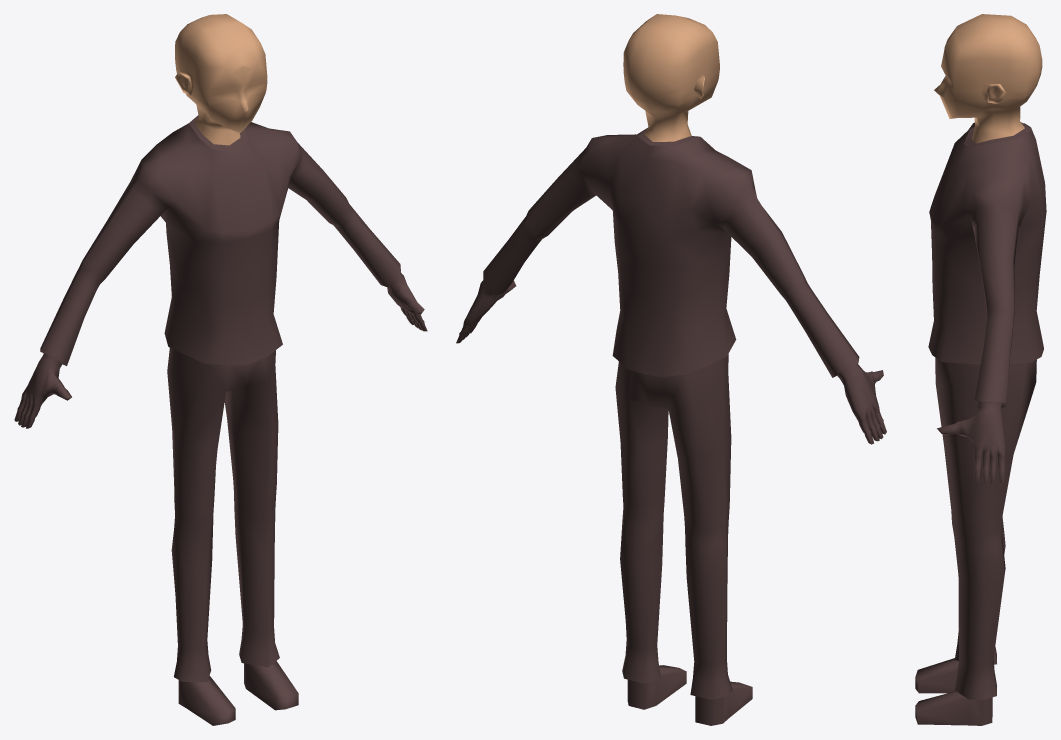
The model's file is player_1.fbx.
The picture shows the model from 3 angles, left to right: view 1: azimuth 30°, elevation 25°; view 2: azimuth 150°, elevation 25°; view 3: azimuth 270°, elevation 25°; orthographic projection. The views are drawn at different scales.
Parts seen in each view (by area): view 1: Player_1; view 2: Player_1; view 3: Player_1.
Part boxes in pixels (bbox=[...]): Player_1: bbox=[14, 14, 427, 725]; Player_1: bbox=[456, 14, 886, 725]; Player_1: bbox=[915, 14, 1046, 725].
Bounding box in the file's own units: 133 × 211 × 36.77.
